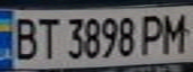3: (63, 13, 84, 60)
8: (115, 12, 142, 59), (81, 15, 103, 60)
9: (100, 14, 121, 58)
B: (6, 14, 42, 61)
M: (157, 8, 190, 54)
P: (136, 11, 169, 56)
T: (33, 14, 60, 61)
